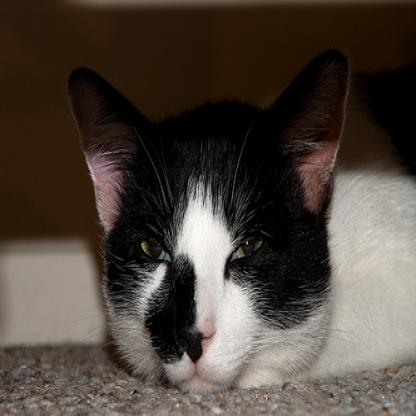Dog: (58, 27, 416, 394)
